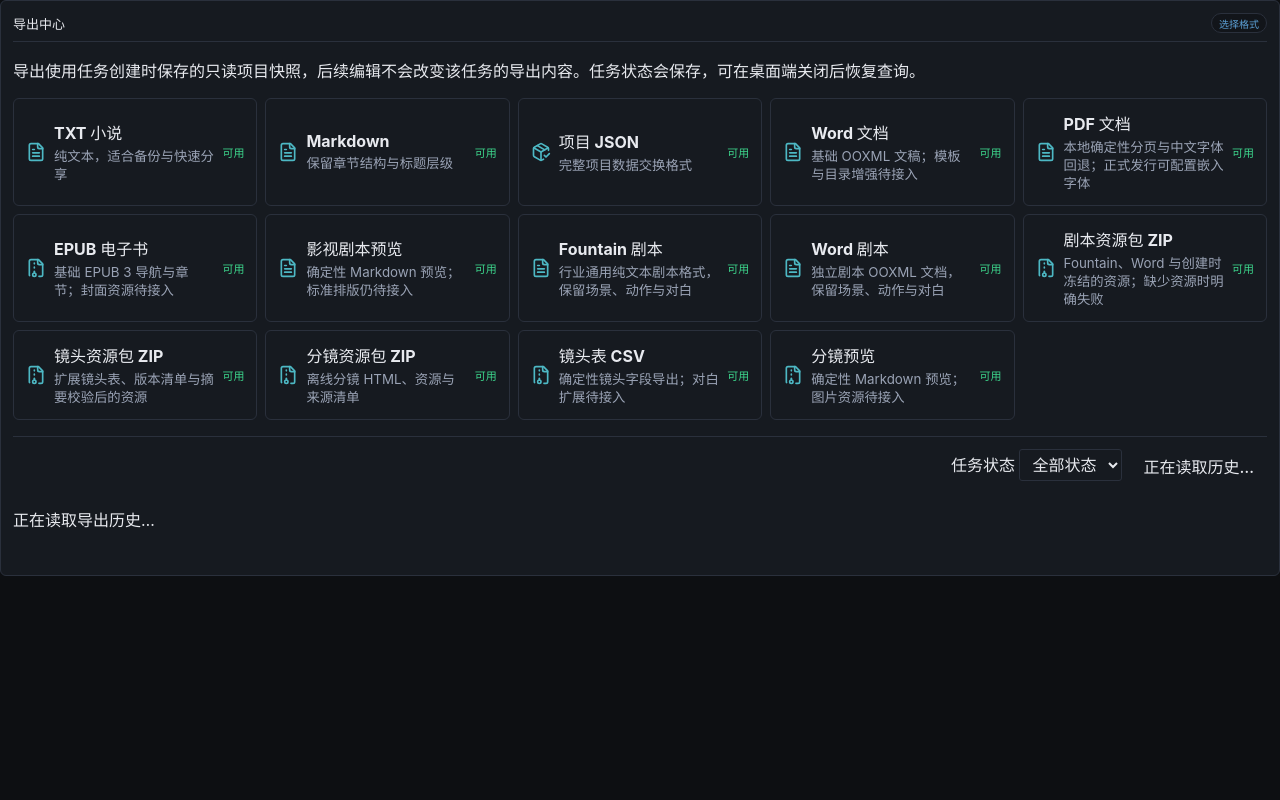
it: ExportPanel industry formats › surfaces creation errors and restores available format buttons
Click the button "Word 剧本 独立剧本 OOXML 文档，保留场景、动作与对白 可用" at (892, 268), box [770,214,1015,322]
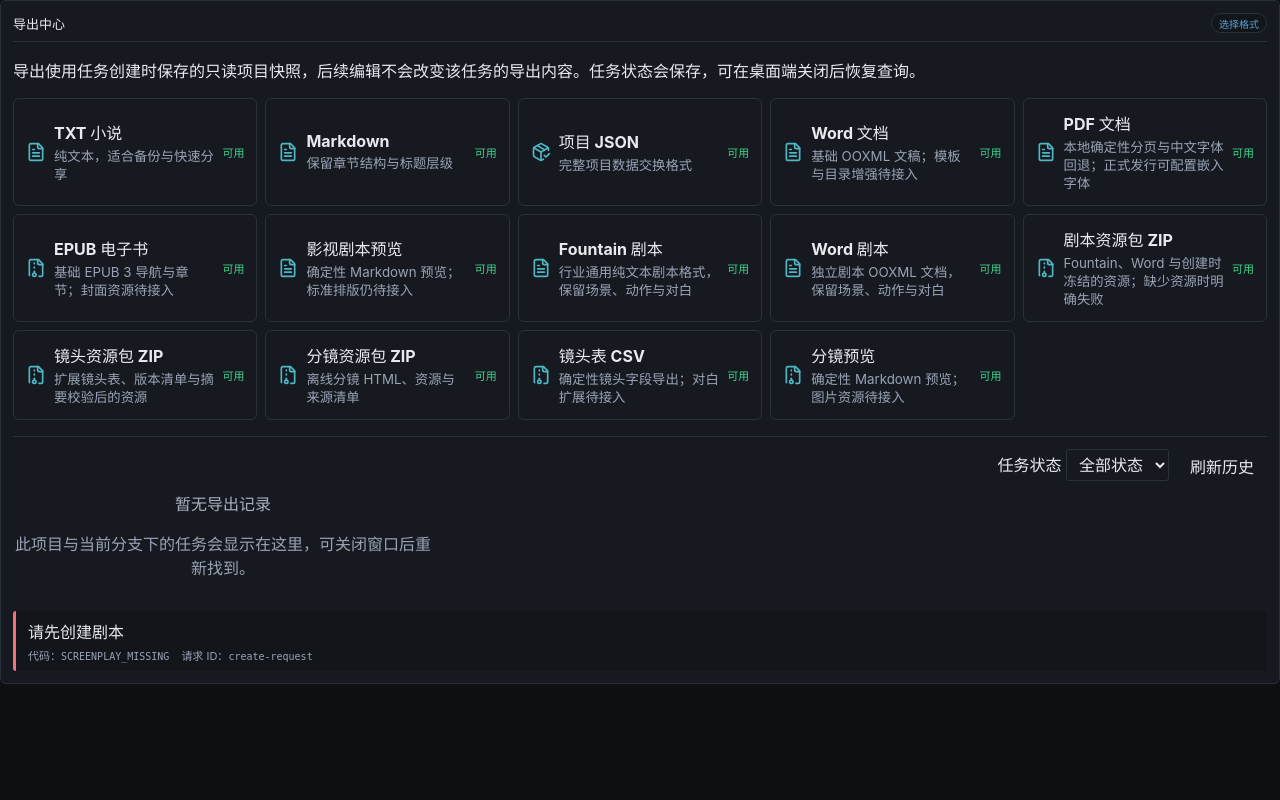
Expected: the text "SCREENPLAY_MISSING" is shown, [61,651,169,662]
Expected: the text "create-request" is shown, [228,651,313,662]
